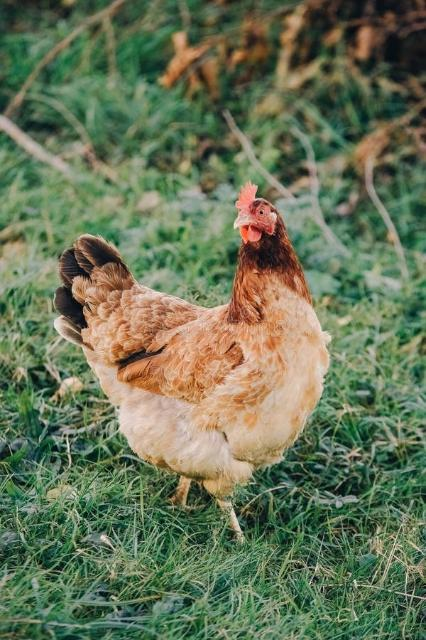Chicken: (53, 177, 334, 546)
